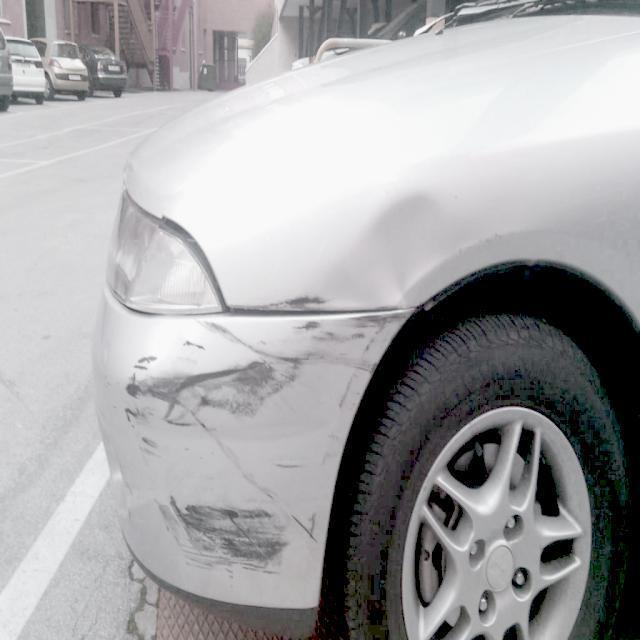minor: (285, 186, 502, 310), (208, 430, 278, 501), (119, 404, 166, 460), (227, 297, 327, 313), (286, 510, 319, 543), (318, 448, 335, 469), (276, 459, 303, 470), (328, 426, 341, 439)
moderate: (129, 310, 406, 425), (152, 493, 292, 579)
